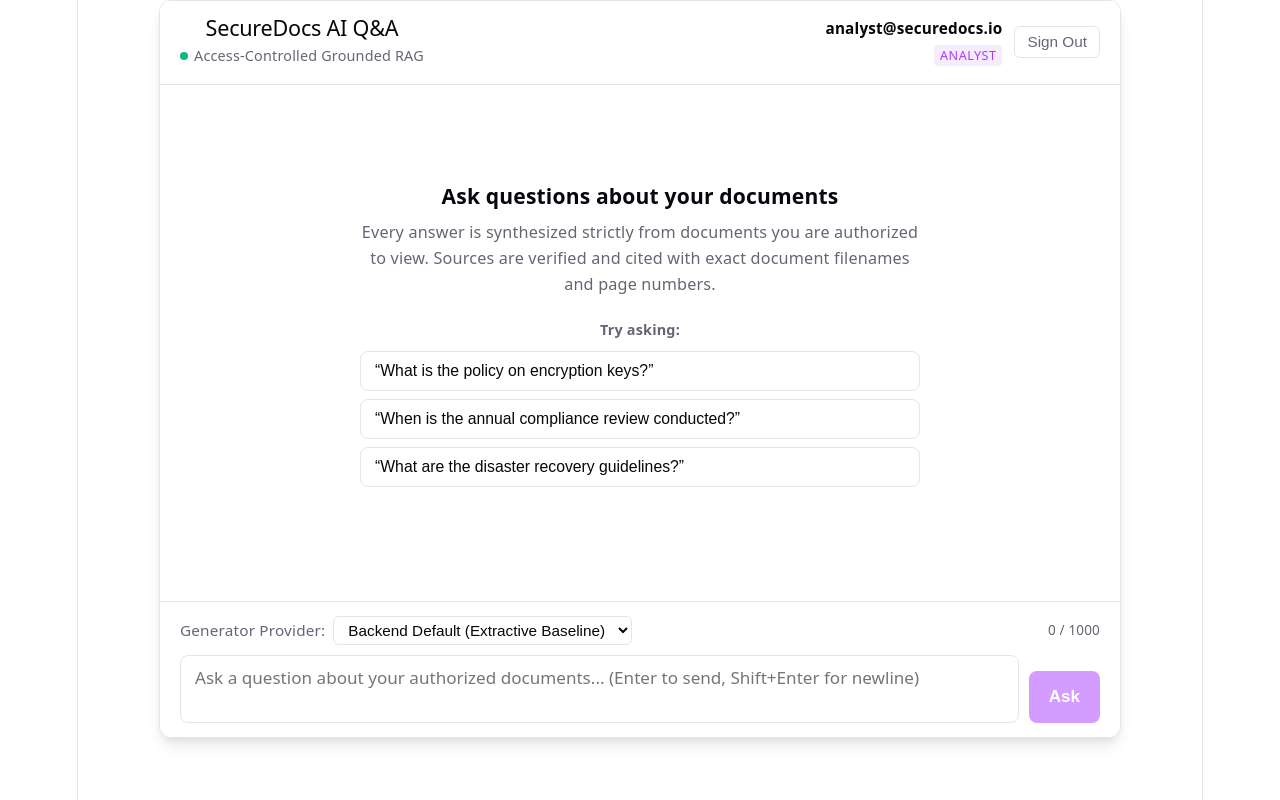
Test: QAChat Component › handles server errors and renders error alert banner
Step 1. Replace the text in the text box with test id "question-input" with "Failing query" → (599, 689), box top-left (180, 655), bottom-right (1019, 723)
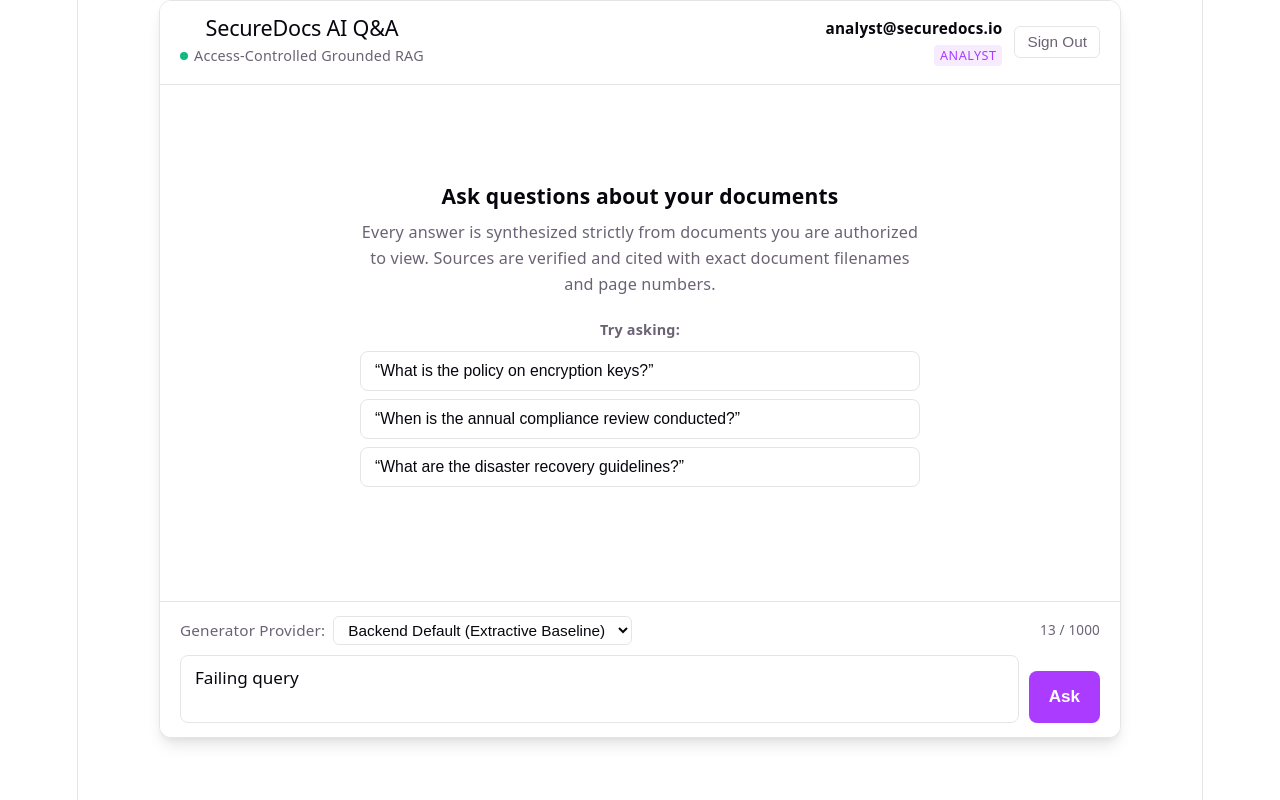
Step 2. Click the button with test id "submit-question-button" → (1064, 697), box top-left (1029, 671), bottom-right (1100, 723)
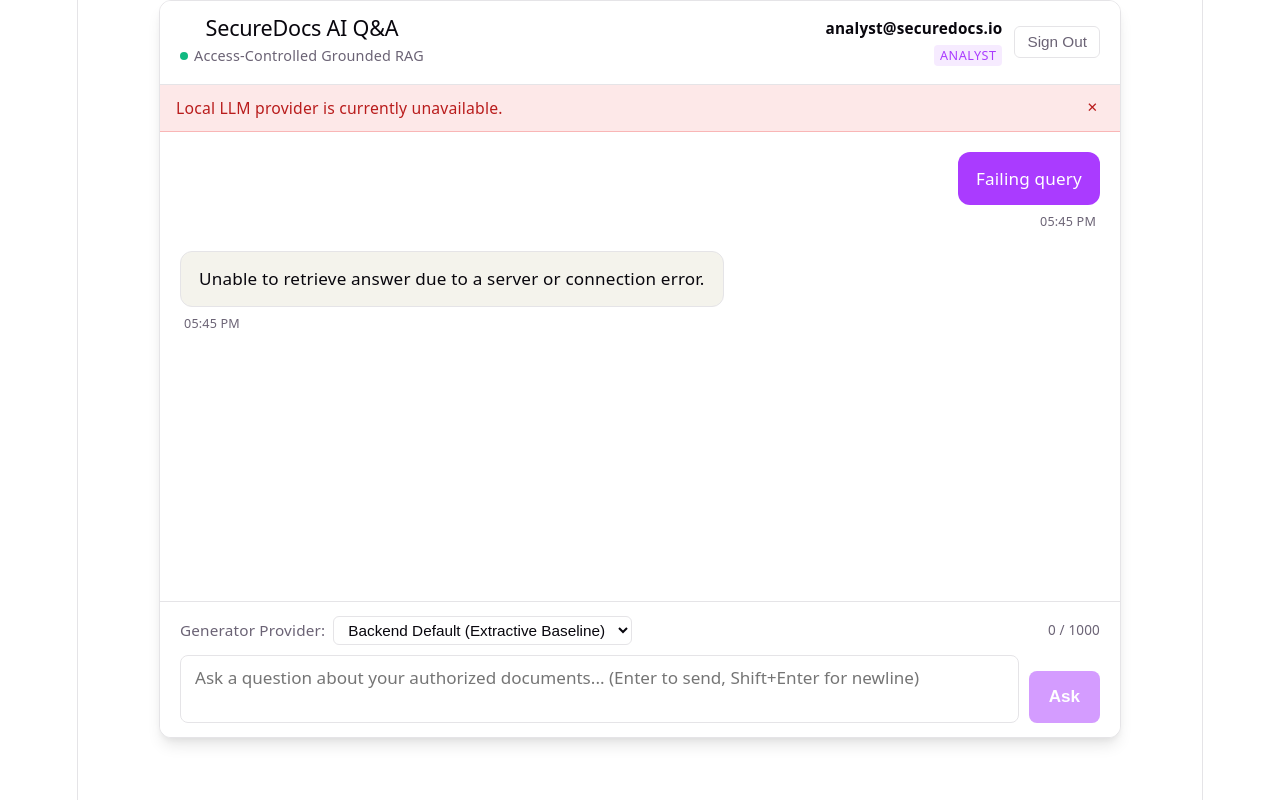
Expected: the element with test id "error-alert-banner" is shown, top-left (160, 84), bottom-right (1120, 132)
Expected: the text "Local LLM provider is currently unavailable." is shown, top-left (176, 94), bottom-right (503, 121)
